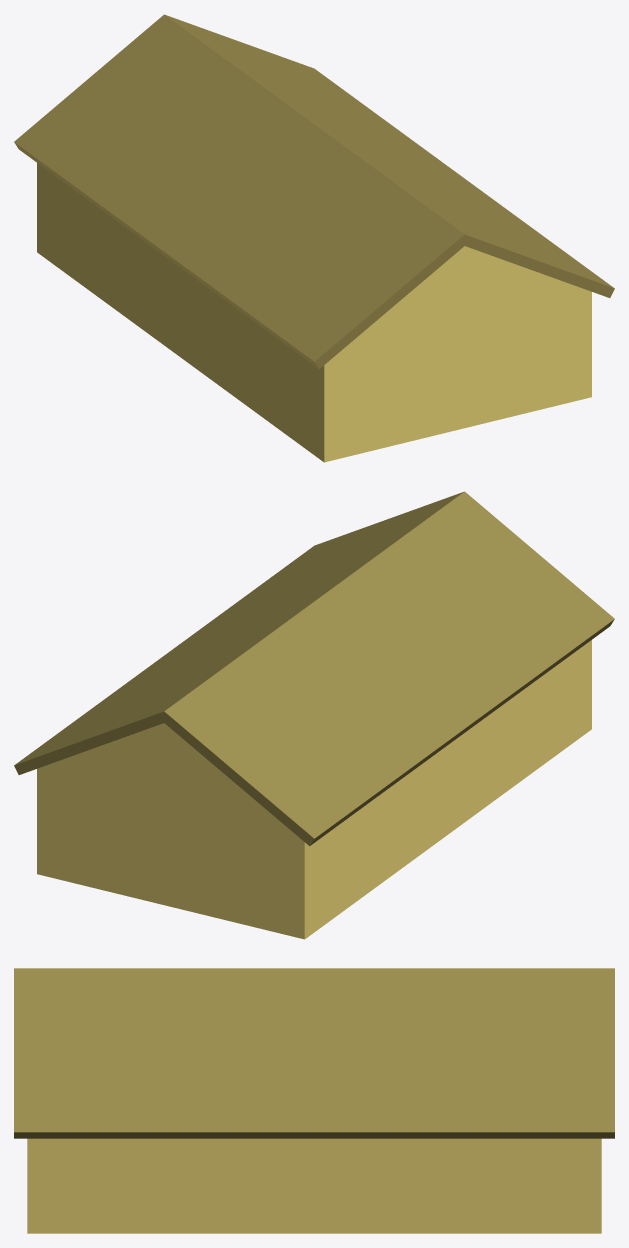
File: result.glb
3 renders of one model, top to bottom at view 1: azimuth 30°, elevation 25°; view 2: azimuth 150°, elevation 25°; view 3: azimuth 270°, elevation 25°, orthographic.
Parts seen in each view (by area): view 1: 9562cc30-434e-421e-91ec-aeb241249002__undefined (×2), a7bcc6ae-0c19-44ad-a628-4b24ebded294__undefined; view 2: 9562cc30-434e-421e-91ec-aeb241249002__undefined (×2), a7bcc6ae-0c19-44ad-a628-4b24ebded294__undefined; view 3: 9562cc30-434e-421e-91ec-aeb241249002__undefined, a7bcc6ae-0c19-44ad-a628-4b24ebded294__undefined.
Boxes of the visible parts, x1=… form: 9562cc30-434e-421e-91ec-aeb241249002__undefined (×2): x1=14, y1=14, x2=614, y2=369; a7bcc6ae-0c19-44ad-a628-4b24ebded294__undefined: x1=37, y1=163, x2=591, y2=462; 9562cc30-434e-421e-91ec-aeb241249002__undefined (×2): x1=14, y1=491, x2=614, y2=846; a7bcc6ae-0c19-44ad-a628-4b24ebded294__undefined: x1=37, y1=640, x2=591, y2=939; 9562cc30-434e-421e-91ec-aeb241249002__undefined: x1=14, y1=968, x2=614, y2=1138; a7bcc6ae-0c19-44ad-a628-4b24ebded294__undefined: x1=27, y1=1138, x2=601, y2=1233.
Bounding box in the file's own units: 785 × 500 × 1360.
